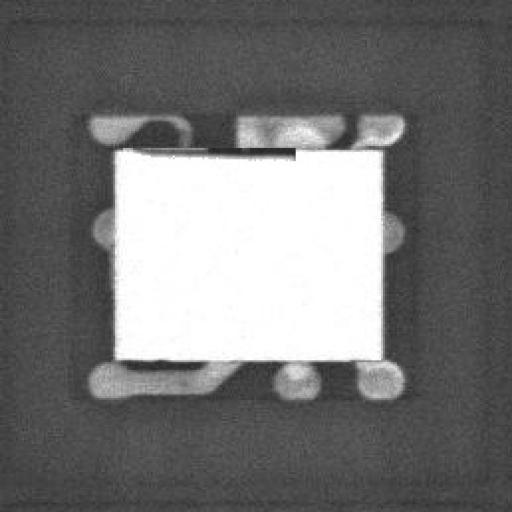DIE_BROKEN: (129, 138, 298, 160)
